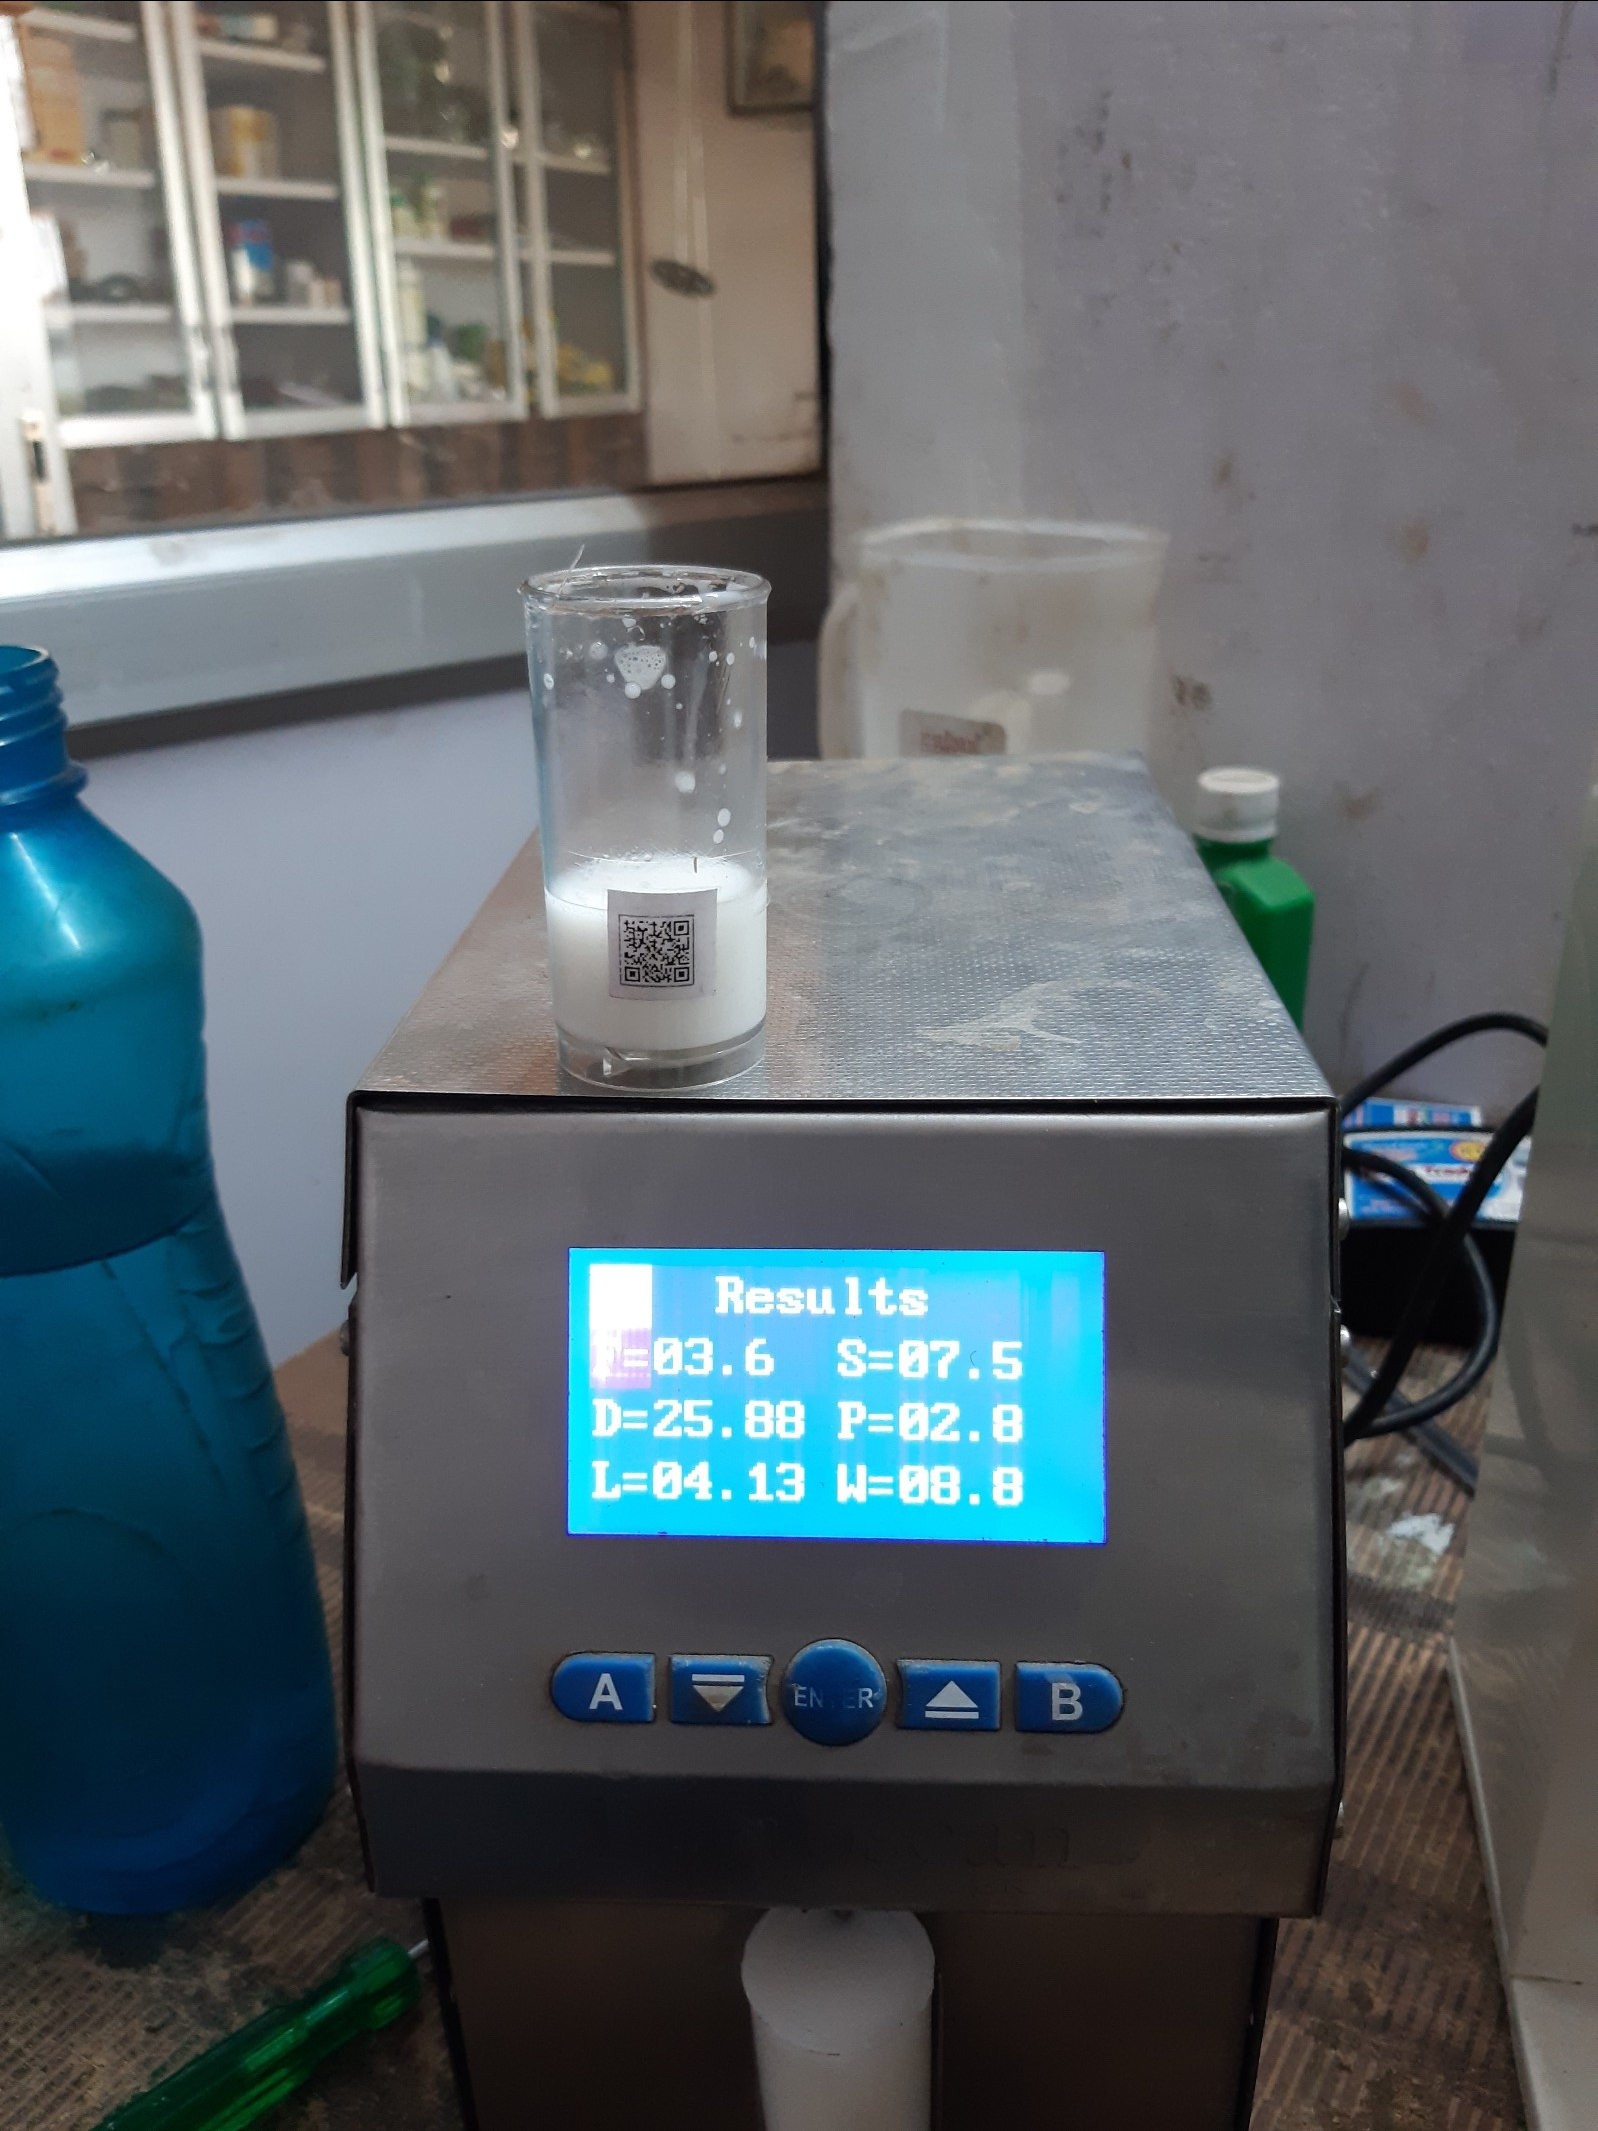lcd: (539, 1232, 1131, 1571)
qr: (593, 898, 722, 1003)
